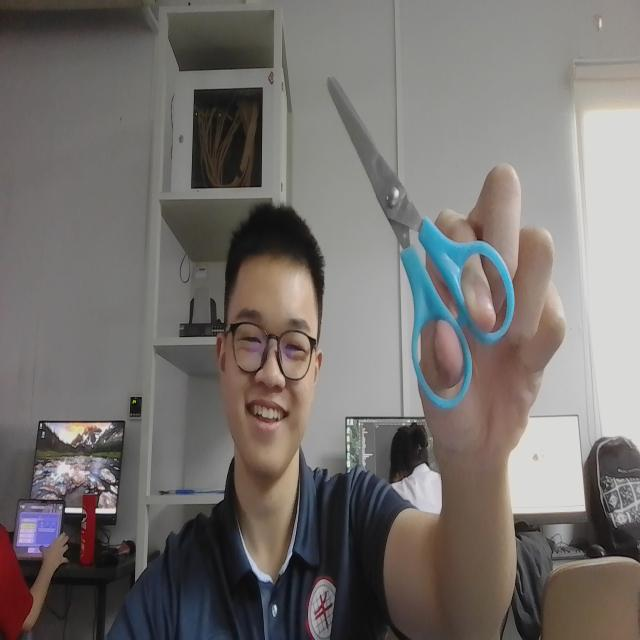scissors: (315, 48, 519, 415)
